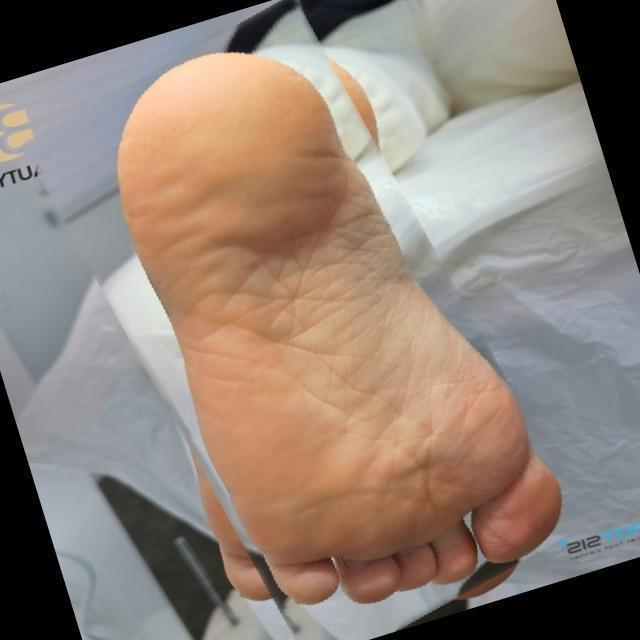No_Shoes: (113, 32, 560, 611)
